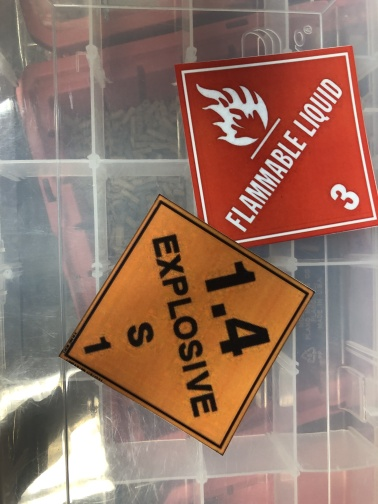Explosive: (60, 194, 315, 455)
FlammableLiquid: (174, 46, 378, 250)
